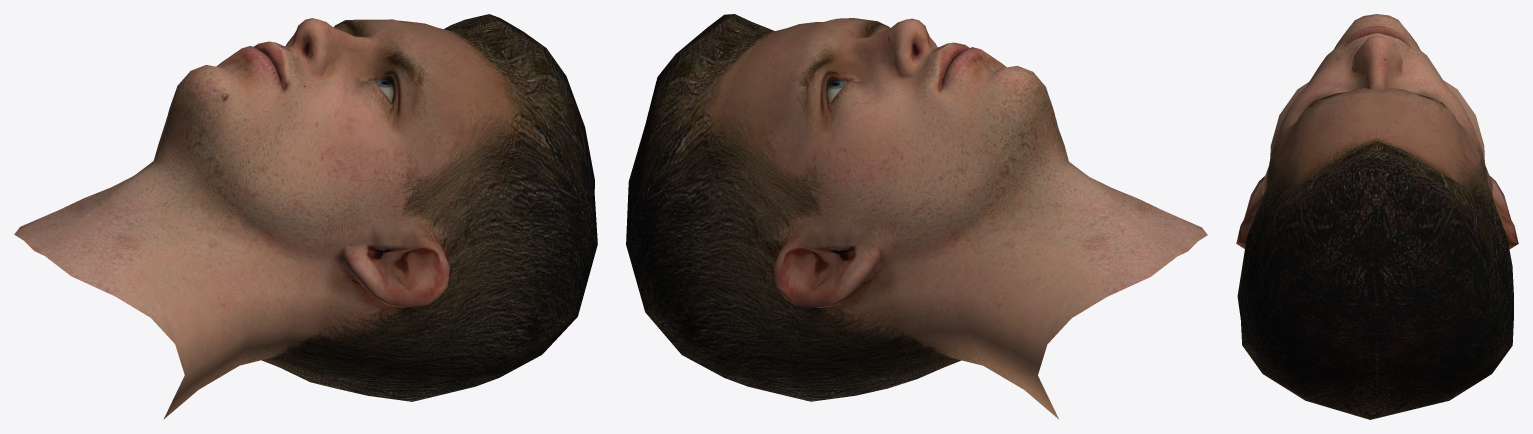
The model's file is head_us_ranger_medic_wells.glb.
The picture shows the model from 3 angles, left to right: view 1: azimuth 30°, elevation 25°; view 2: azimuth 150°, elevation 25°; view 3: azimuth 270°, elevation 25°; orthographic projection. The views are drawn at different scales.
Bounding box in the file's own units: 13.78 × 9.53 × 7.61.
Materials: 1 (1 with a texture image).
